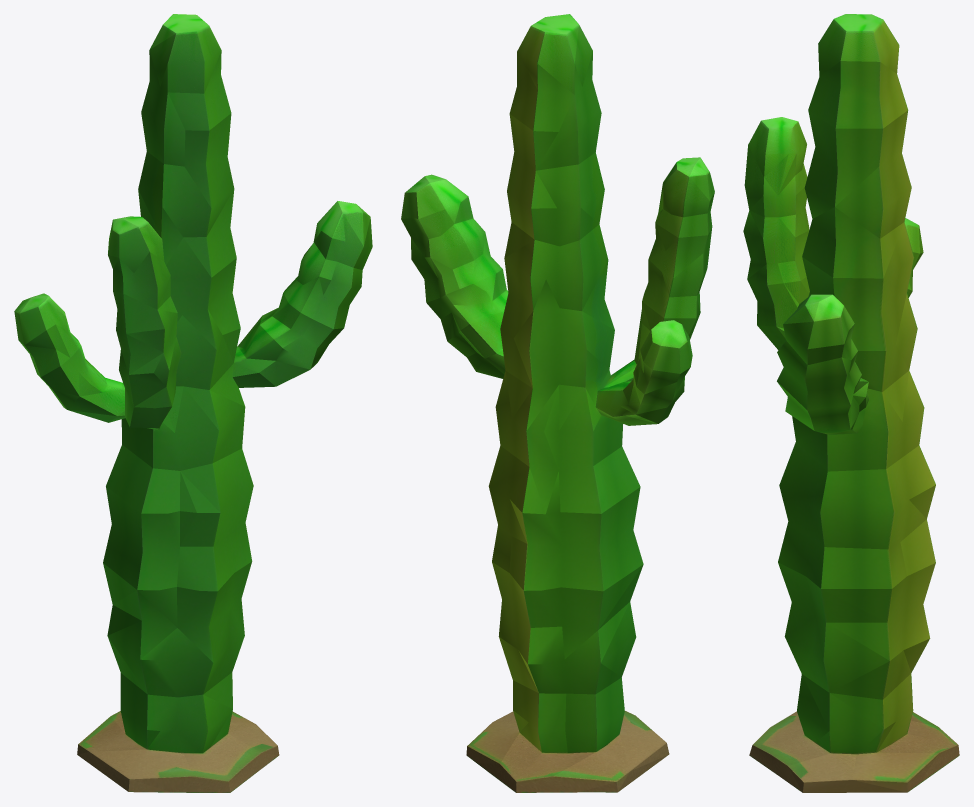
Rendered from cactus.glb.
The picture shows the model from 3 angles, left to right: view 1: azimuth 30°, elevation 25°; view 2: azimuth 150°, elevation 25°; view 3: azimuth 270°, elevation 25°; orthographic projection.
Size of the model in its own units: 0.8497 by 1.9 by 0.5032.
Materials: 1 (1 with a texture image).
